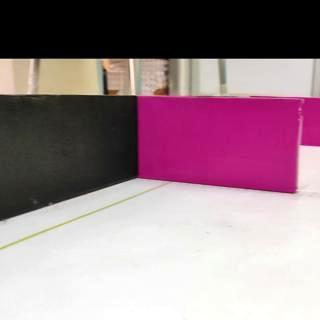xparking: (142, 96, 297, 190), (305, 96, 320, 146)
